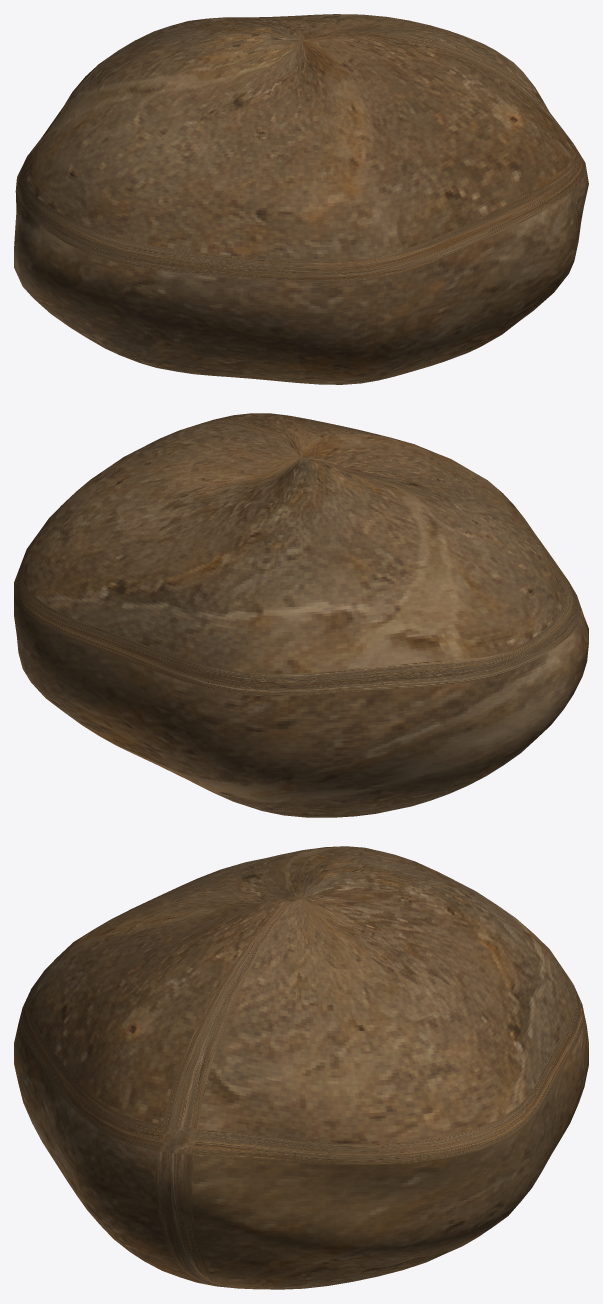
Rendered from variant-04.glb.
The picture shows the model from 3 angles, top to bottom: view 1: azimuth 30°, elevation 25°; view 2: azimuth 150°, elevation 25°; view 3: azimuth 270°, elevation 25°; orthographic projection. The views are drawn at different scales.
Parts seen in each view (by area): view 1: RiverPebble_04; view 2: RiverPebble_04; view 3: RiverPebble_04.
Part boxes in pixels (left/top/right/bottom): RiverPebble_04: left=14, top=14, right=588, bottom=384; RiverPebble_04: left=14, top=413, right=588, bottom=817; RiverPebble_04: left=14, top=846, right=588, bottom=1289.
Size of the model in its own units: 0.48 by 0.2901 by 0.4269.
Materials: 1 (1 with a texture image).
